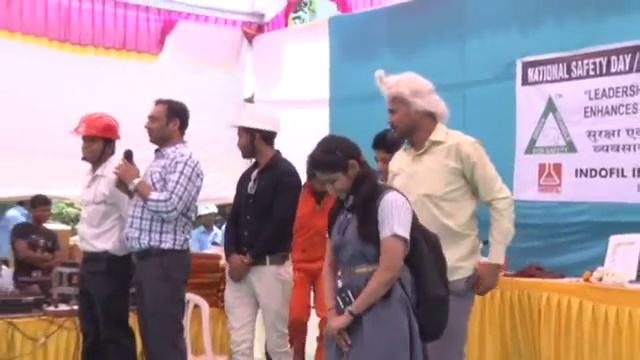helmet: (226, 104, 283, 134), (67, 112, 121, 141), (195, 203, 219, 218)
helmet_off: (377, 76, 449, 152), (302, 134, 364, 208), (135, 100, 191, 152), (370, 121, 405, 176), (24, 198, 49, 230)
helmet_on: (226, 106, 282, 161), (67, 113, 121, 169), (193, 202, 219, 231)
person: (385, 70, 516, 359), (316, 128, 444, 356), (112, 89, 205, 360), (220, 105, 300, 360), (67, 113, 140, 358), (279, 139, 352, 348), (13, 198, 59, 310), (188, 203, 223, 253)
